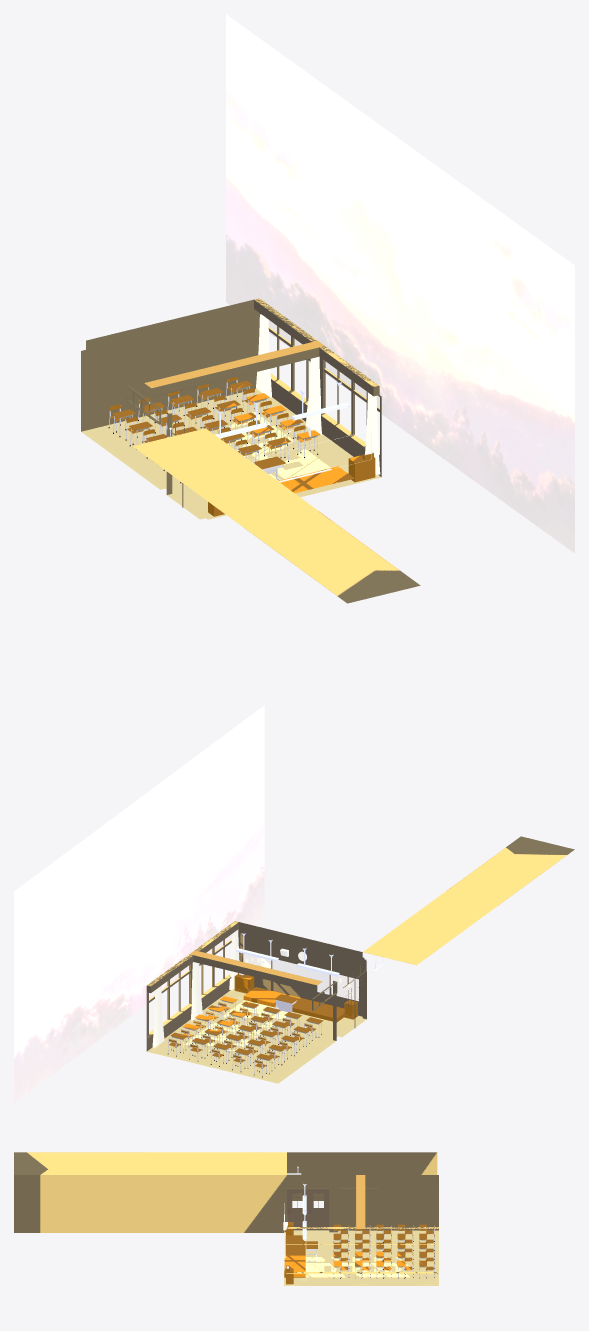
The model's file is sala.glb.
The picture shows the model from 3 angles, top to bottom: view 1: azimuth 30°, elevation 25°; view 2: azimuth 150°, elevation 25°; view 3: azimuth 270°, elevation 25°; orthographic projection. The views are drawn at different scales.
Parts seen in each view (by area): view 1: Plane.002_Plane.001, 学校いす_mesh.007_学校いす.008, 学校いす_mesh.012_学校いす.011, 学校いす_mesh.557_学校いす.633, Plane.048_Plane.060, 学校いす_mesh.002_学校いす.002, Class_in_the_evenin_mesh.000_Class_in_the_evenin.000; view 2: Plane.002_Plane.001, 学校いす_mesh.007_学校いす.008, 学校いす_mesh.012_学校いす.011, 学校いす_mesh.557_学校いす.633, 学校いす_mesh.002_学校いす.002, Plane.048_Plane.060, Cube.001_Cube.138, Cube.017_Cube.010, Class_in_the_evenin_mesh.000_Class_in_the_evenin.000; view 3: 学校いす_mesh.007_学校いす.008, 学校いす_mesh.012_学校いす.011, 学校いす_mesh.557_学校いす.633, 学校いす_mesh.002_学校いす.002, Class_in_the_evenin_mesh.000_Class_in_the_evenin.000.
Boxes of the visible parts, x1,y1,x2,y2 form: Plane.002_Plane.001: (226,14,574,553); 学校いす_mesh.007_学校いす.008: (81,298,420,603); 学校いす_mesh.012_学校いす.011: (81,389,381,519); 学校いす_mesh.557_学校いす.633: (109,376,375,516); Plane.048_Plane.060: (256,314,380,474); 学校いす_mesh.002_学校いす.002: (109,380,317,480); Class_in_the_evenin_mesh.000_Class_in_the_evenin.000: (167,382,350,438); Plane.002_Plane.001: (14,705,264,1103); 学校いす_mesh.007_学校いす.008: (146,836,574,1051); 学校いす_mesh.012_学校いす.011: (147,988,366,1083); 学校いす_mesh.557_学校いす.633: (169,973,357,1067); 学校いす_mesh.002_学校いす.002: (168,1000,321,1076); Plane.048_Plane.060: (152,929,239,1047); Cube.001_Cube.138: (243,953,358,1001); Cube.017_Cube.010: (272,960,329,994); Class_in_the_evenin_mesh.000_Class_in_the_evenin.000: (236,933,385,976); 学校いす_mesh.007_学校いす.008: (14,1152,438,1273); 学校いす_mesh.012_学校いす.011: (284,1230,438,1285); 学校いす_mesh.557_学校いす.633: (284,1222,434,1284); 学校いす_mesh.002_学校いす.002: (307,1225,434,1277); Class_in_the_evenin_mesh.000_Class_in_the_evenin.000: (287,1166,306,1240).
Bounding box in the file's own units: 38.04 × 32.3 × 89.69.
19 materials, 16 textured.
